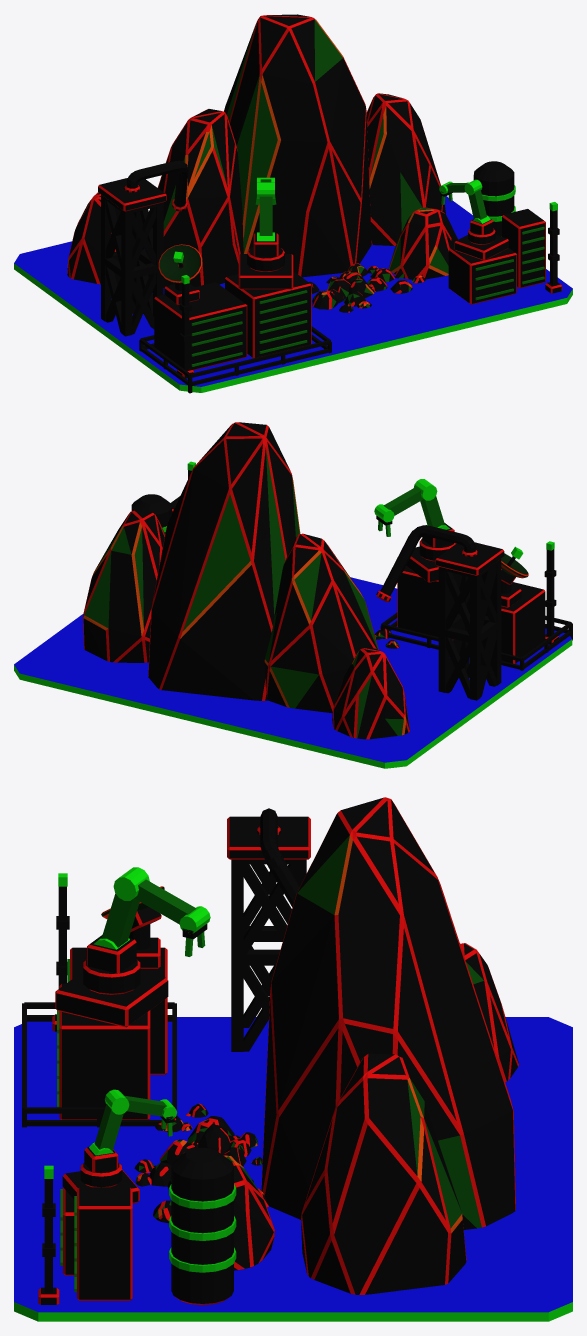
Rendered from SM_Holo_OreMine_T3.fbx.
3 views of the same model, one above another, from view 1: azimuth 30°, elevation 25°; view 2: azimuth 150°, elevation 25°; view 3: azimuth 270°, elevation 25° (orthographic). The views are drawn at different scales.
Visible parts, largest first — view 1: SM_Holo_OreMine_T3; view 2: SM_Holo_OreMine_T3; view 3: SM_Holo_OreMine_T3.
Boxes of the visible parts, x1,y1,x2,y2 form: SM_Holo_OreMine_T3: (14, 14, 572, 393); SM_Holo_OreMine_T3: (14, 422, 572, 768); SM_Holo_OreMine_T3: (14, 797, 572, 1321).
Bounding box in the file's own units: 20 × 12.06 × 16.
